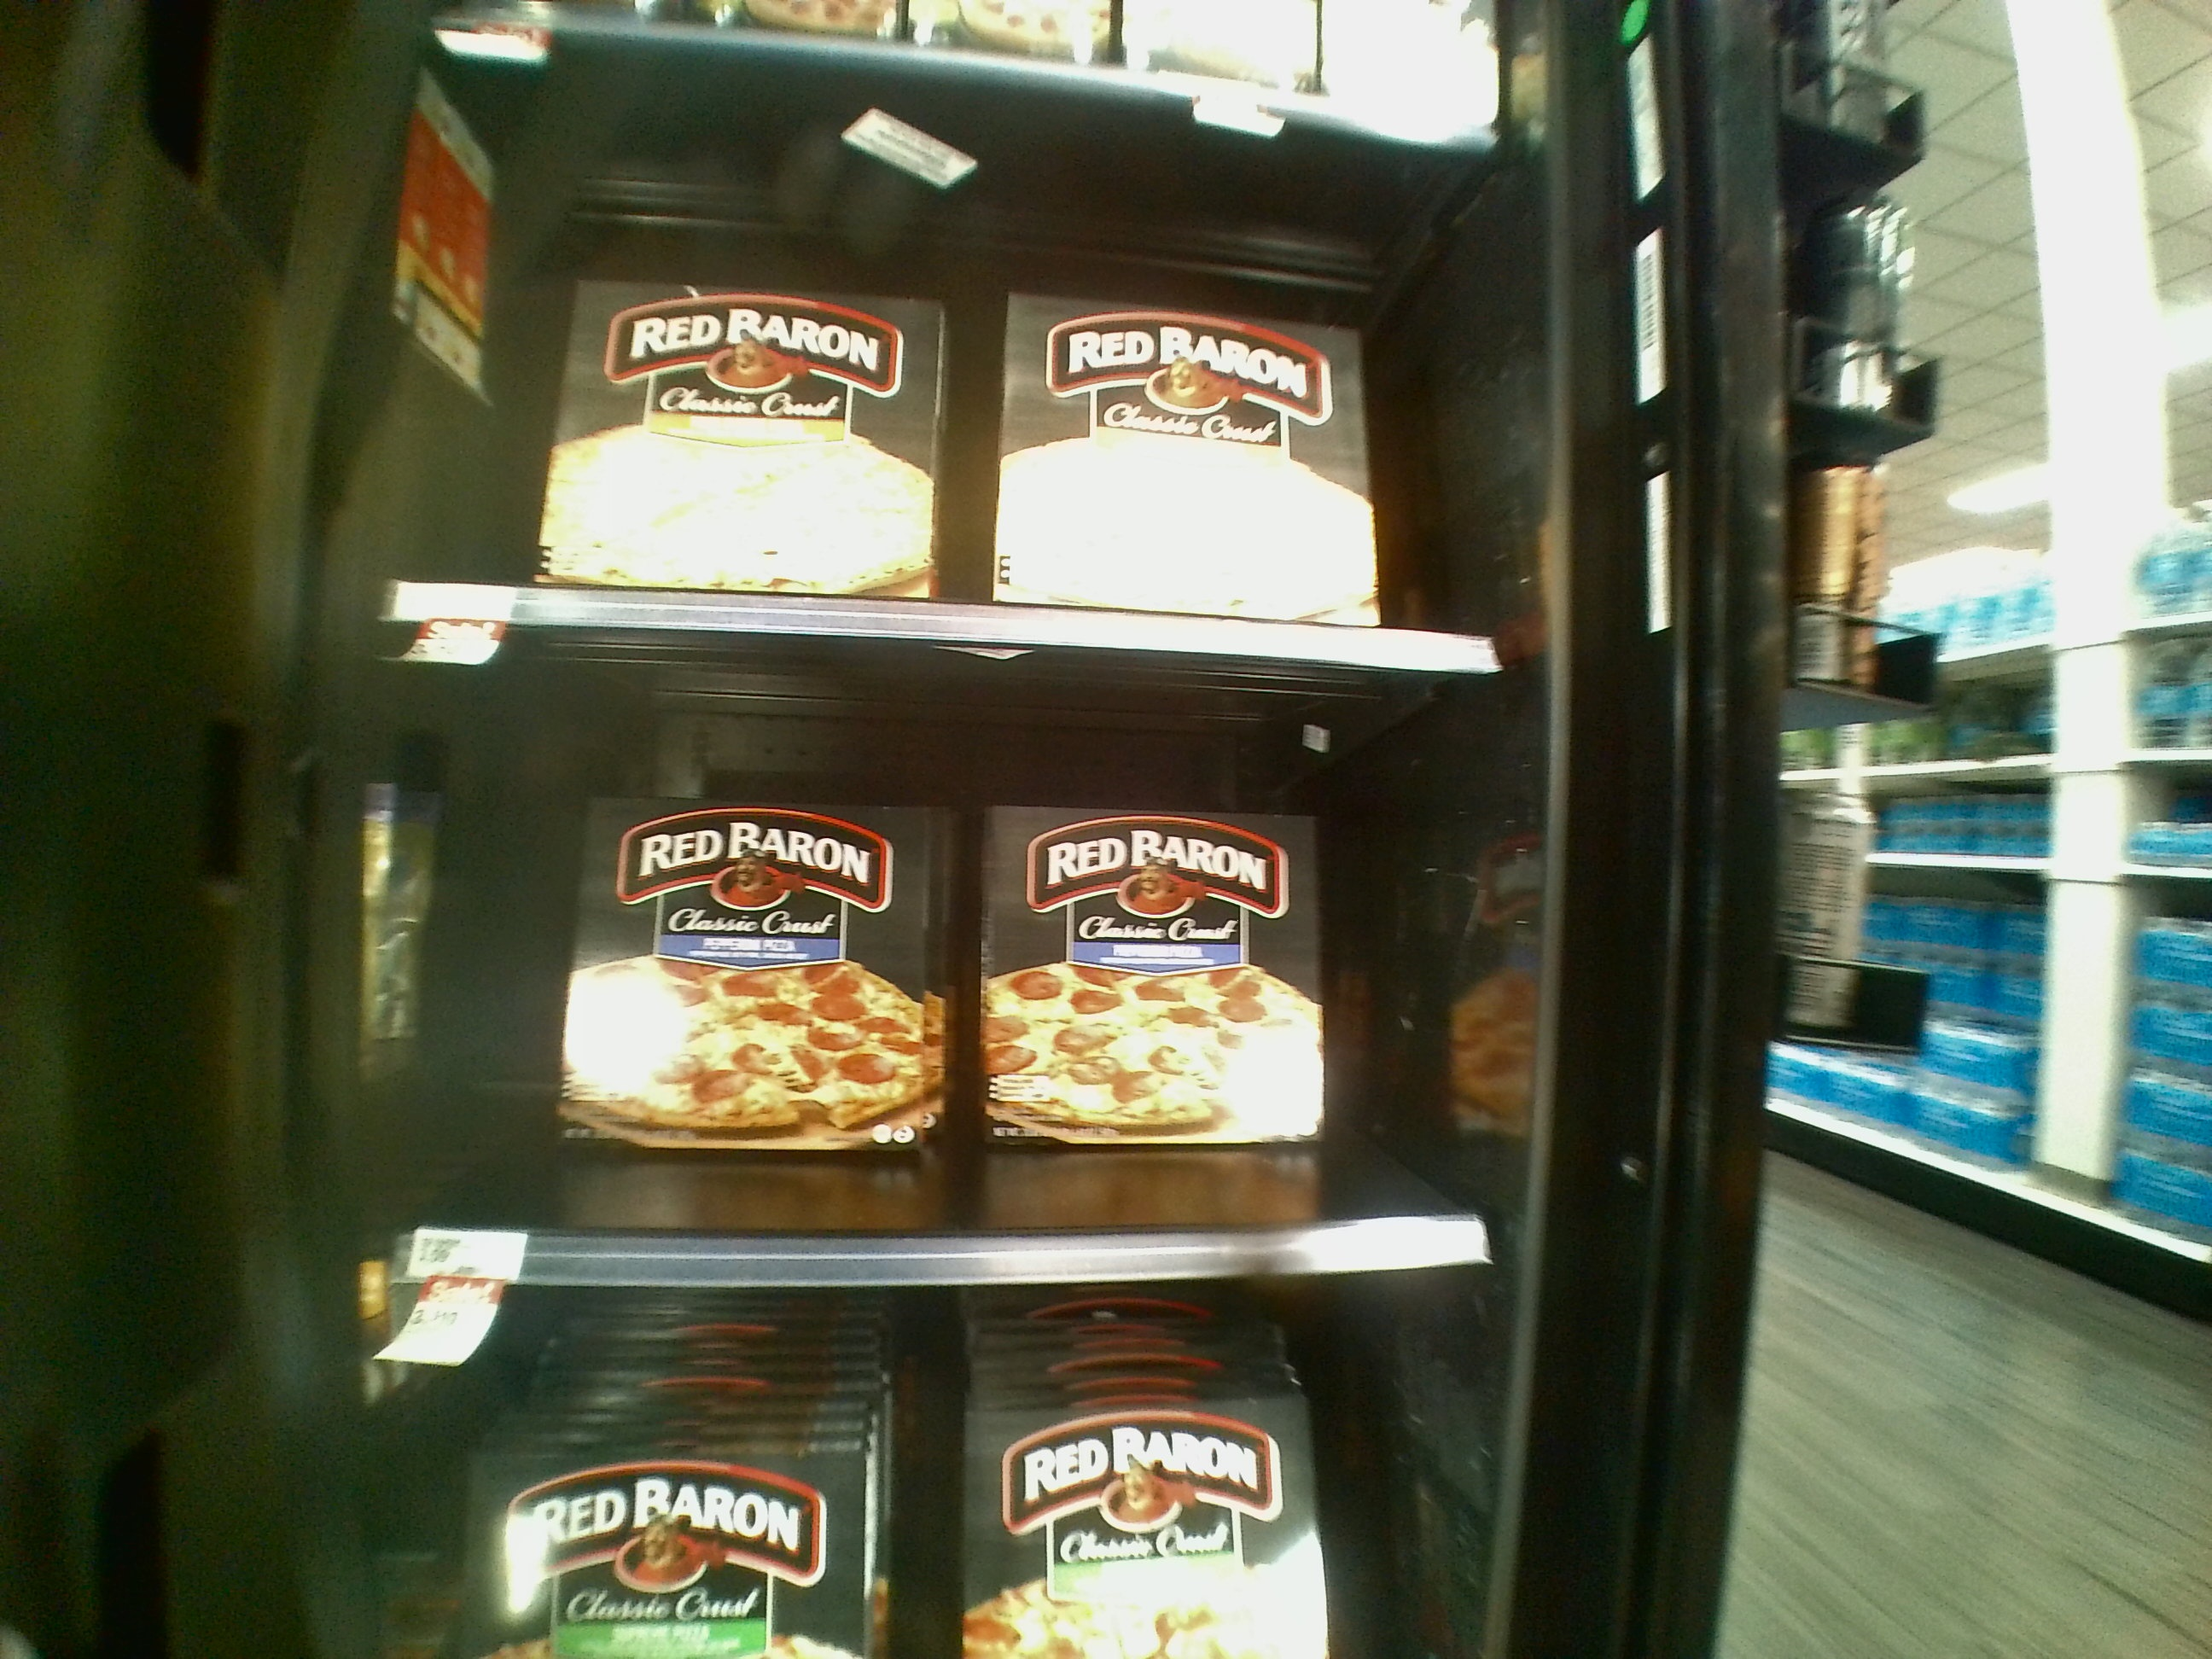shelf: (385, 671, 1533, 1291), (420, 47, 1522, 673)
